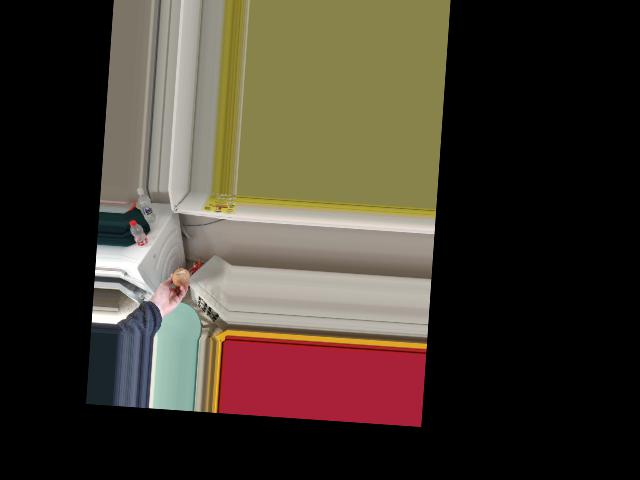sweet_potato: (171, 268, 188, 289)
